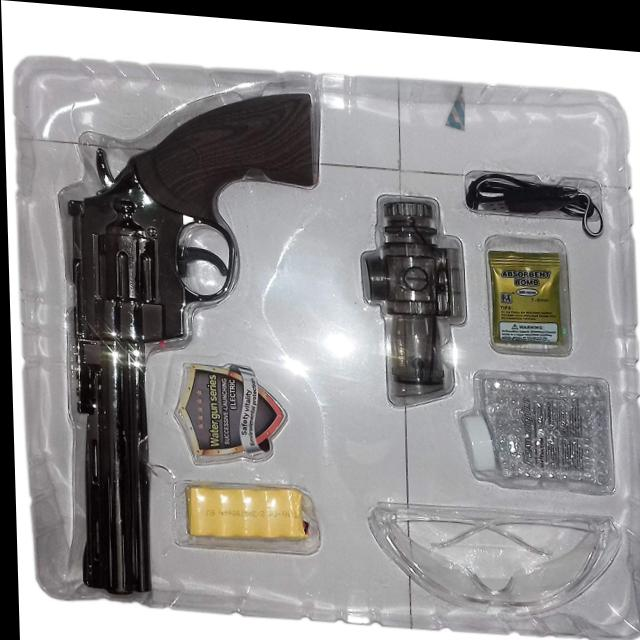handgun: (47, 57, 339, 615)
